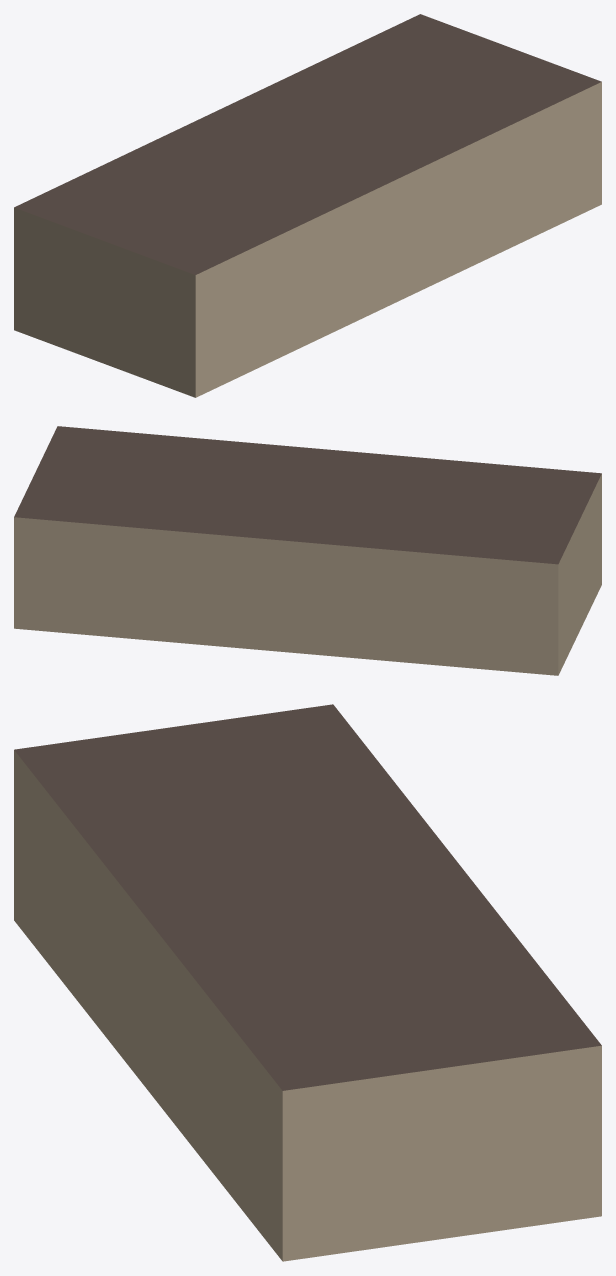
The picture shows the model from 3 angles, top to bottom: view 1: azimuth 30°, elevation 25°; view 2: azimuth 150°, elevation 25°; view 3: azimuth 270°, elevation 25°; orthographic projection. The views are drawn at different scales.
Parts seen in each view (by area): view 1: HP-w859488768; view 2: HP-w859488768; view 3: HP-w859488768.
Boxes of the visible parts, x1,y1,x2,y2 form: HP-w859488768: (14,14,601,397); HP-w859488768: (14,426,601,675); HP-w859488768: (14,704,601,1261).
Size of the model in its own units: 43.72 by 9 by 28.1.
